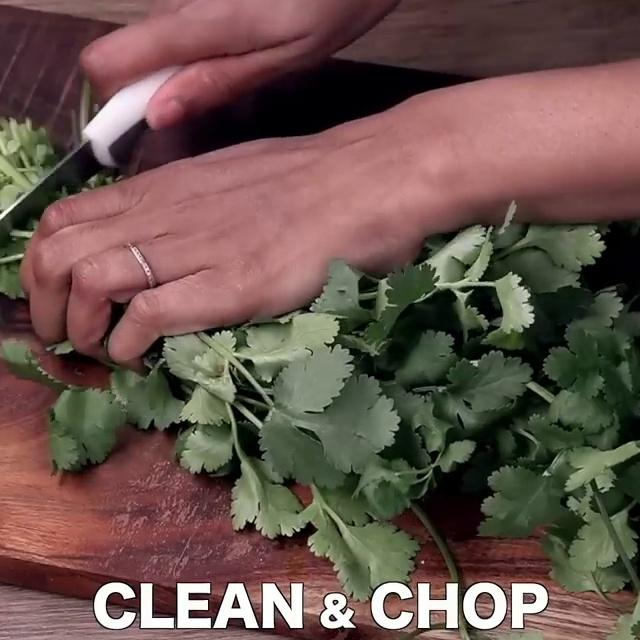cilantro: (295, 267, 640, 568)
